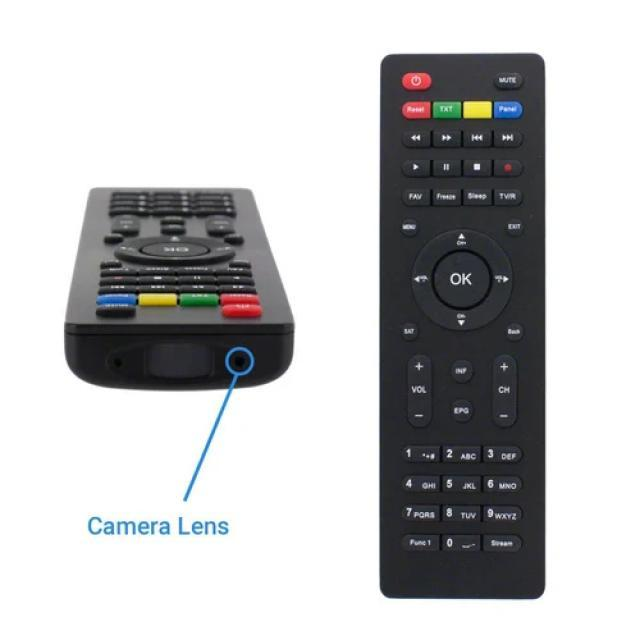hidden camera: (231, 351, 255, 371)
